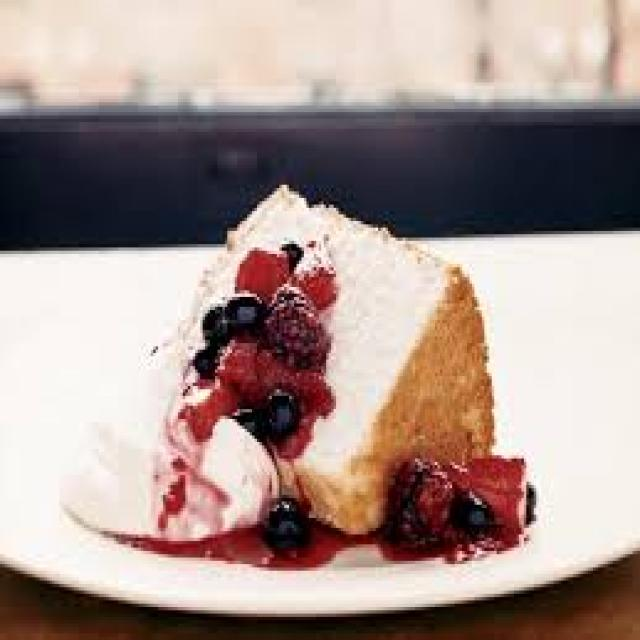Organik: (92, 177, 307, 527)
